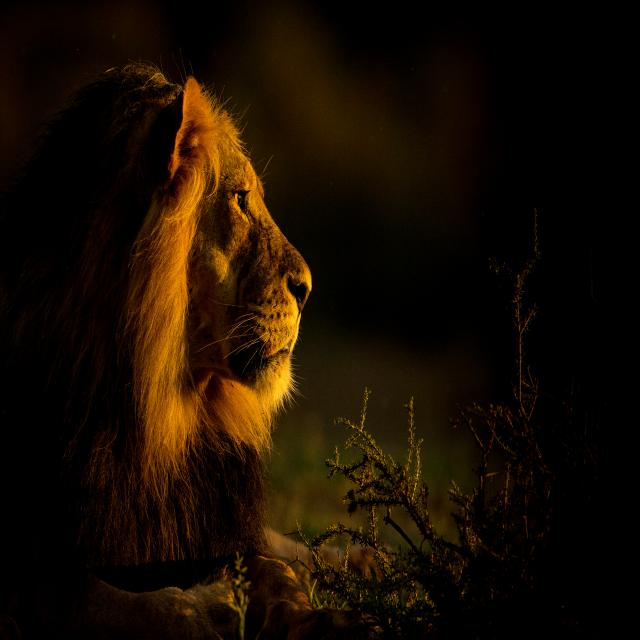Lion: (0, 63, 329, 632)
